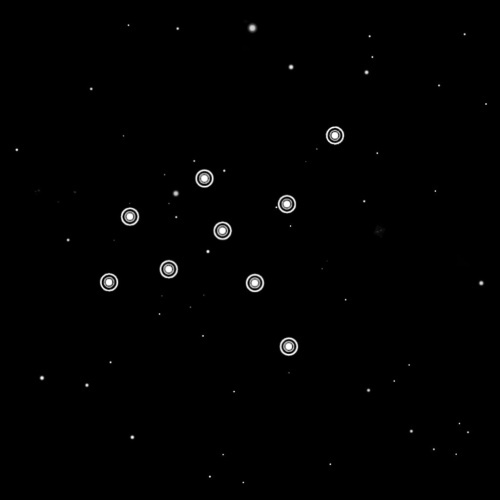cygnus: (97, 120, 348, 363)
